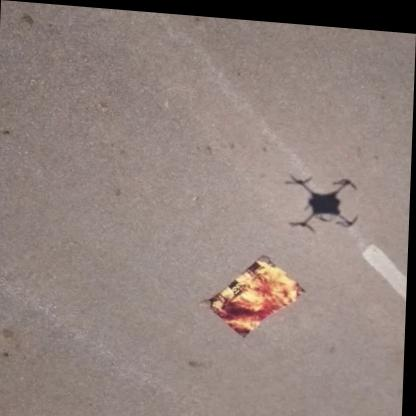fire-poster: (201, 245, 309, 337)
